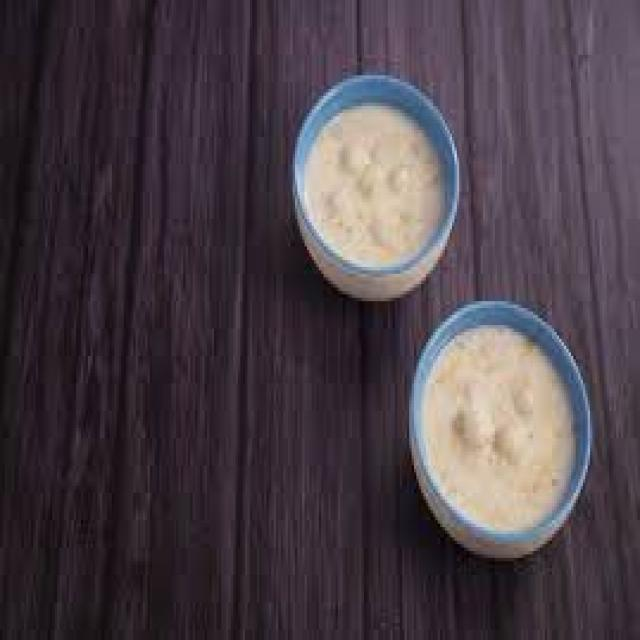paal kolukattai: (416, 309, 582, 540), (284, 64, 461, 276)
